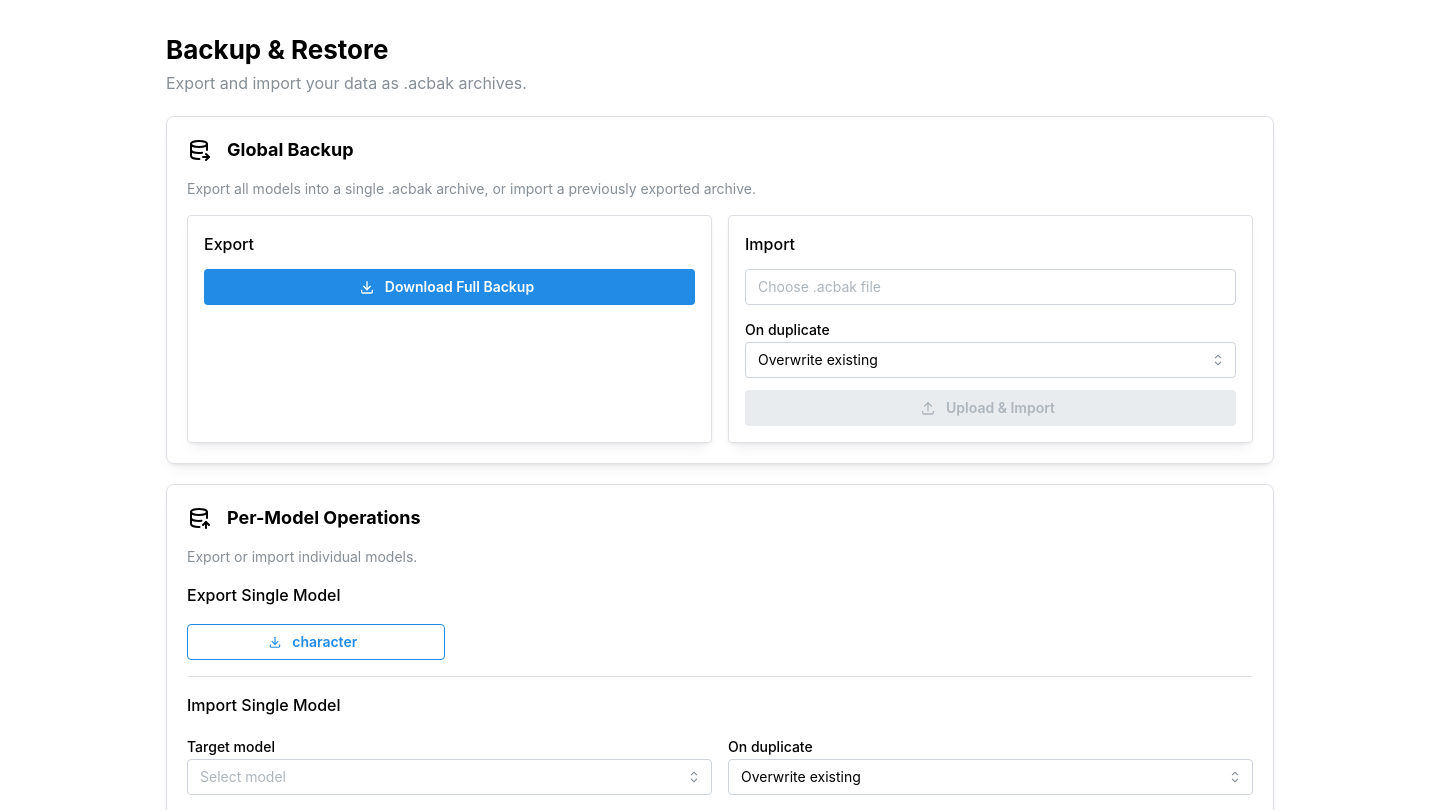
Test: BackupRestore › handles per-model export error
The width and height of the screenshot is (1440, 810).
Click the button "character".
click(316, 642)  # box [187,624,444,660]
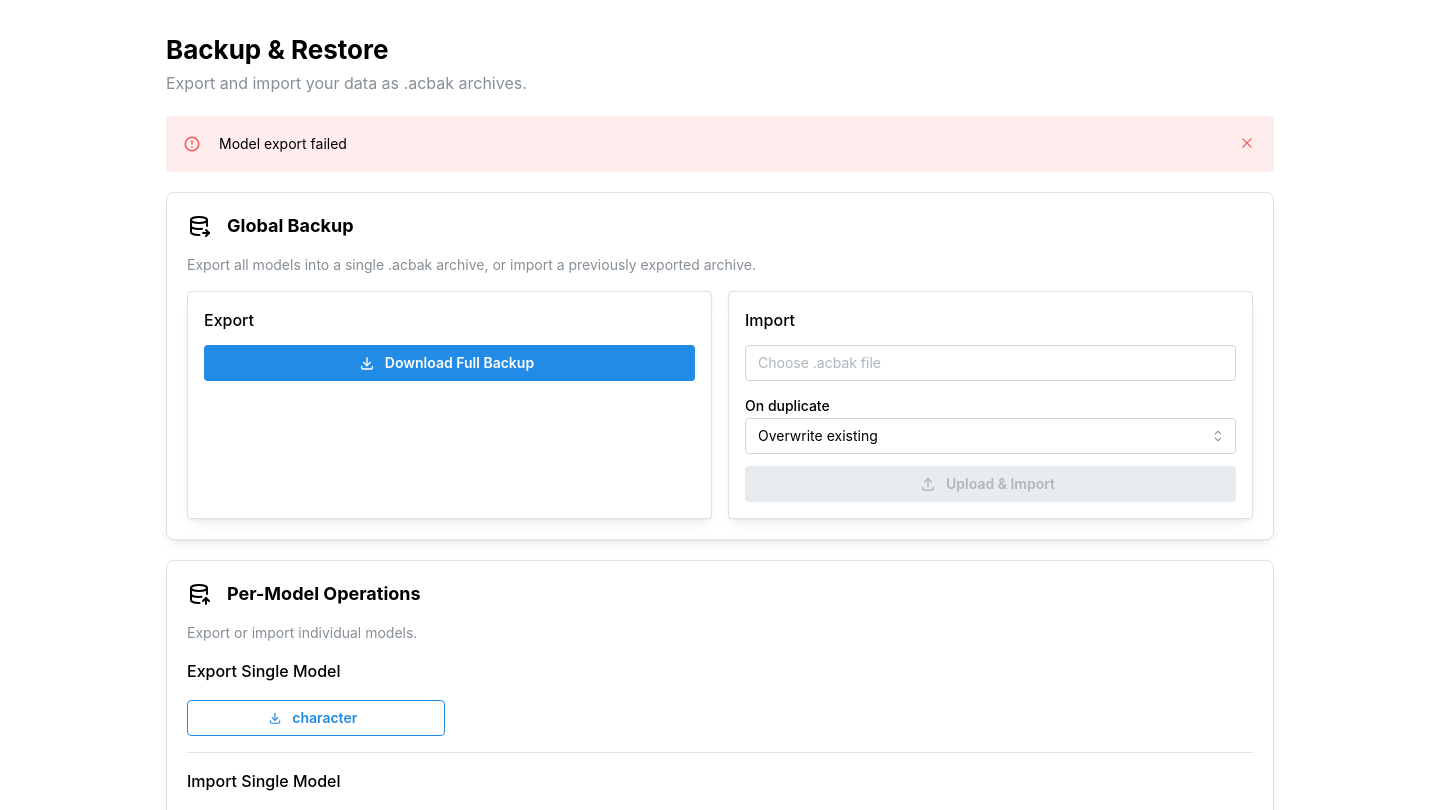
Expected: the text "Model export failed" is shown, [219,135,347,152]
